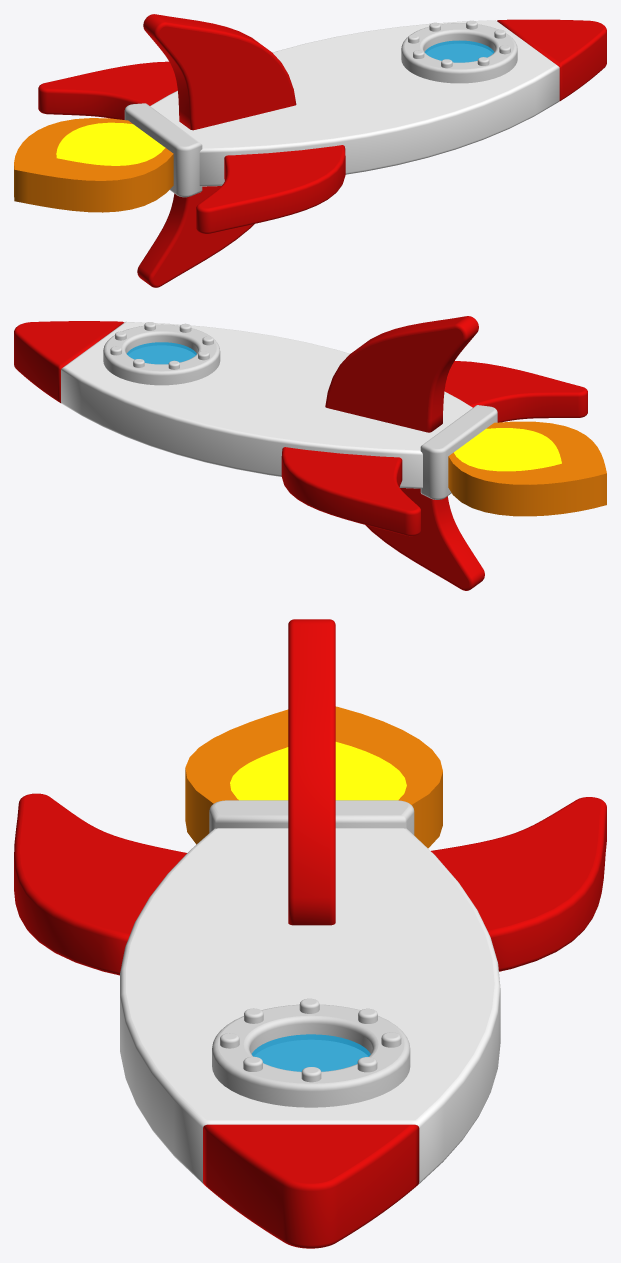
File: foguete.glb
The picture shows the model from 3 angles, top to bottom: view 1: azimuth 30°, elevation 25°; view 2: azimuth 150°, elevation 25°; view 3: azimuth 270°, elevation 25°; orthographic projection. The views are drawn at different scales.
Parts seen in each view (by area): view 1: Material_001-material (×4), Material_002-material, Material_004-material, Material_003-material (×3), Material_005-material, Material_006-material; view 2: Material_001-material (×4), Material_002-material, Material_004-material, Material_003-material (×3), Material_005-material, Material_006-material; view 3: Material_002-material, Material_001-material (×3), Material_003-material (×3), Material_004-material, Material_005-material, Material_006-material.
Part boxes in pixels (x1,y1,x2,y2): Material_001-material (×4): (38,14,606,287); Material_002-material: (150,20,559,186); Material_004-material: (14,118,173,212); Material_003-material (×3): (124,20,517,197); Material_005-material: (56,122,165,165); Material_006-material: (424,40,494,62); Material_001-material (×4): (14,316,587,590); Material_002-material: (61,321,472,488); Material_004-material: (448,421,606,516); Material_003-material (×3): (103,322,497,499); Material_005-material: (454,428,561,471); Material_006-material: (126,342,196,364); Material_002-material: (120,828,500,1184); Material_001-material (×3): (14,619,606,1248); Material_003-material (×3): (209,800,414,1107); Material_004-material: (185,706,442,848); Material_005-material: (230,742,406,800); Material_006-material: (251,1034,370,1071).
Size of the model in its own units: 0.6585 by 0.2817 by 0.3368.
